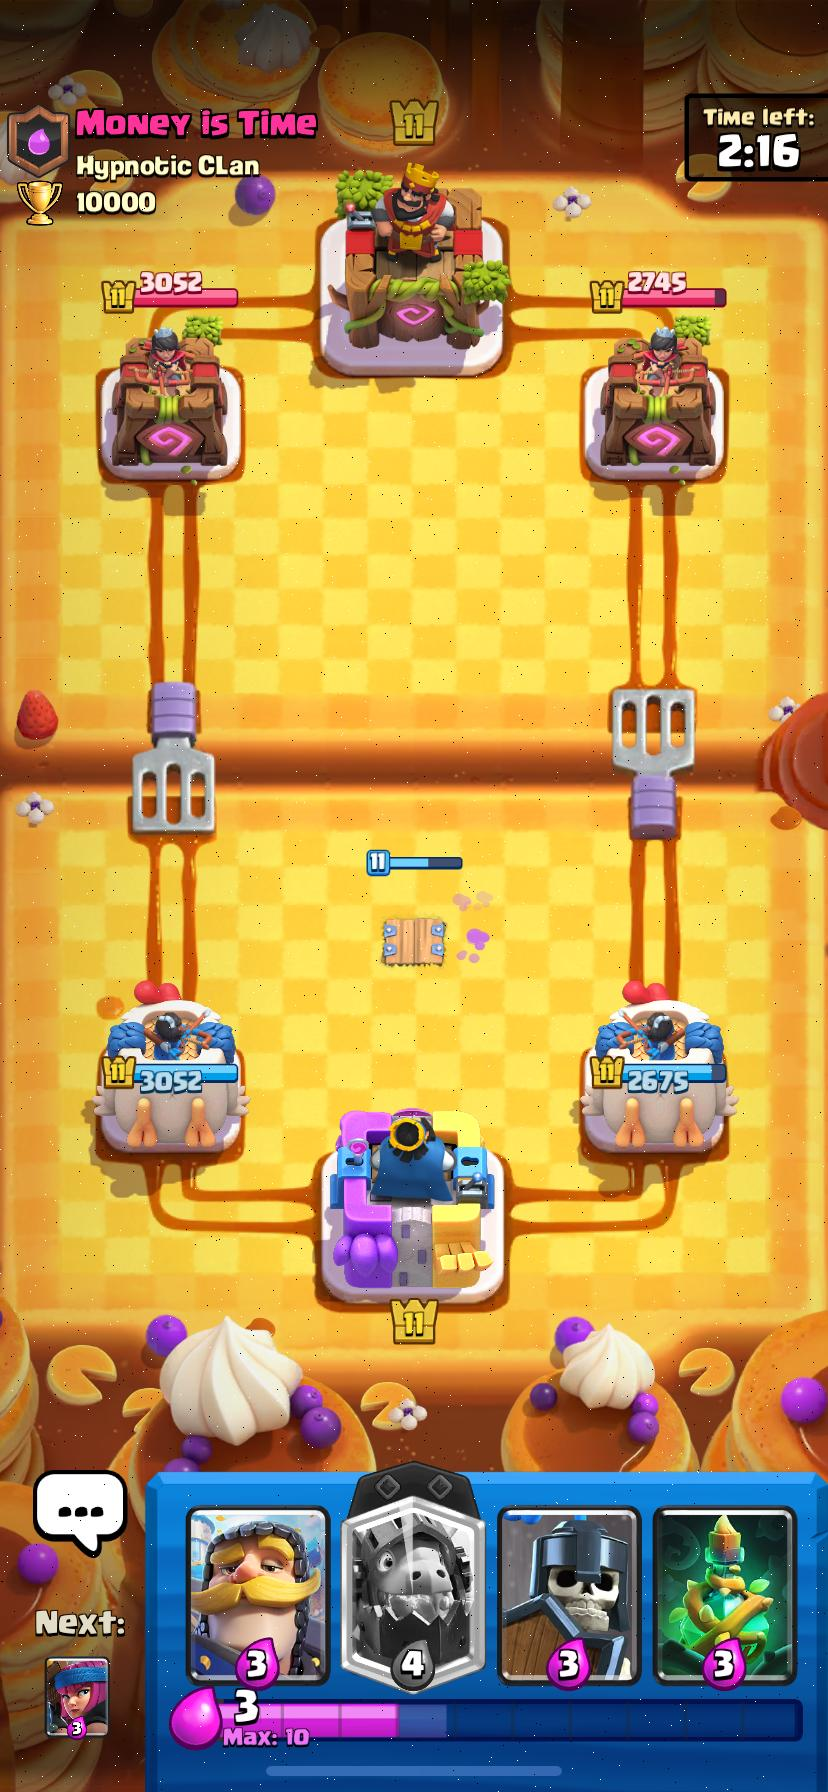EKingTower: (343, 165, 508, 351)
EnemyPrincessTower: (112, 326, 226, 474), (600, 327, 714, 470)
OTesla: (382, 917, 445, 966)
OwnKingTower: (321, 1101, 503, 1305)
OwnPrincessTower: (580, 982, 737, 1154), (93, 983, 248, 1152)
